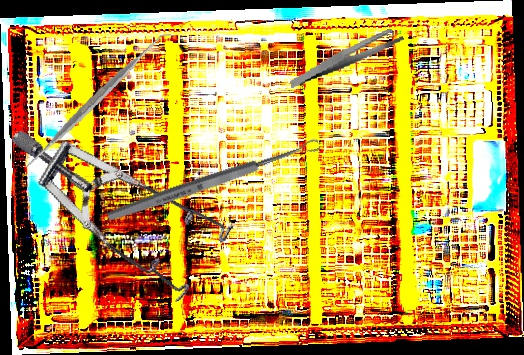Dressing Forceps: (284, 26, 409, 89)
Spatula Surgical: (15, 19, 176, 182)
Speculum: (8, 68, 254, 337)
Surgical Spoon: (105, 137, 322, 224)
